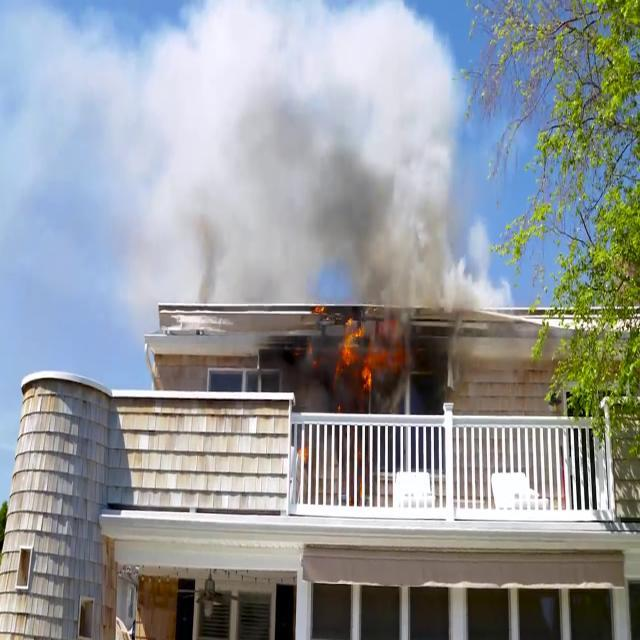Fire: (328, 306, 378, 396)
Smoke: (99, 0, 511, 315)
